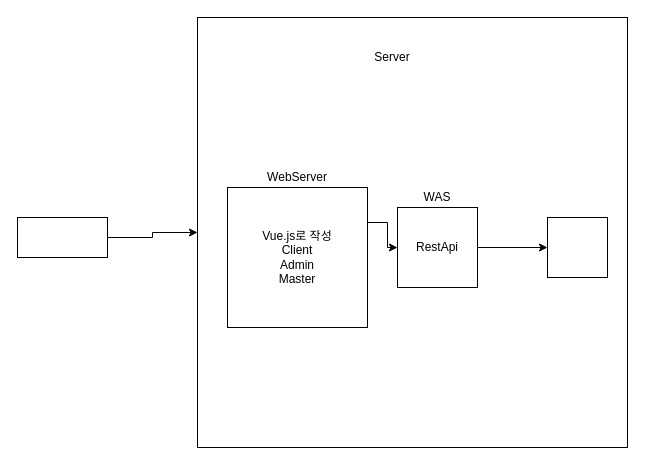
This 645x465 diagram has some shape labels left out. Here are the shapes that lost their labels. From the top down, the box of each, then its label:
(16, 216, 108, 258): Client
(546, 216, 608, 278): DBServer
